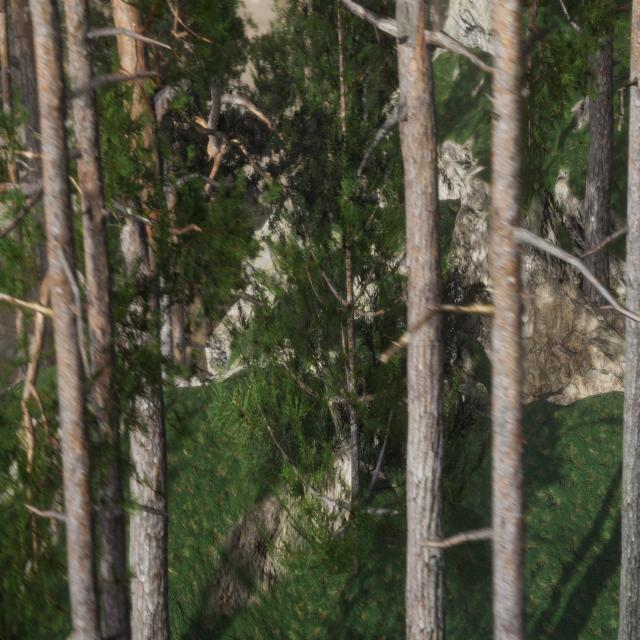Human: (310, 295, 332, 381)
